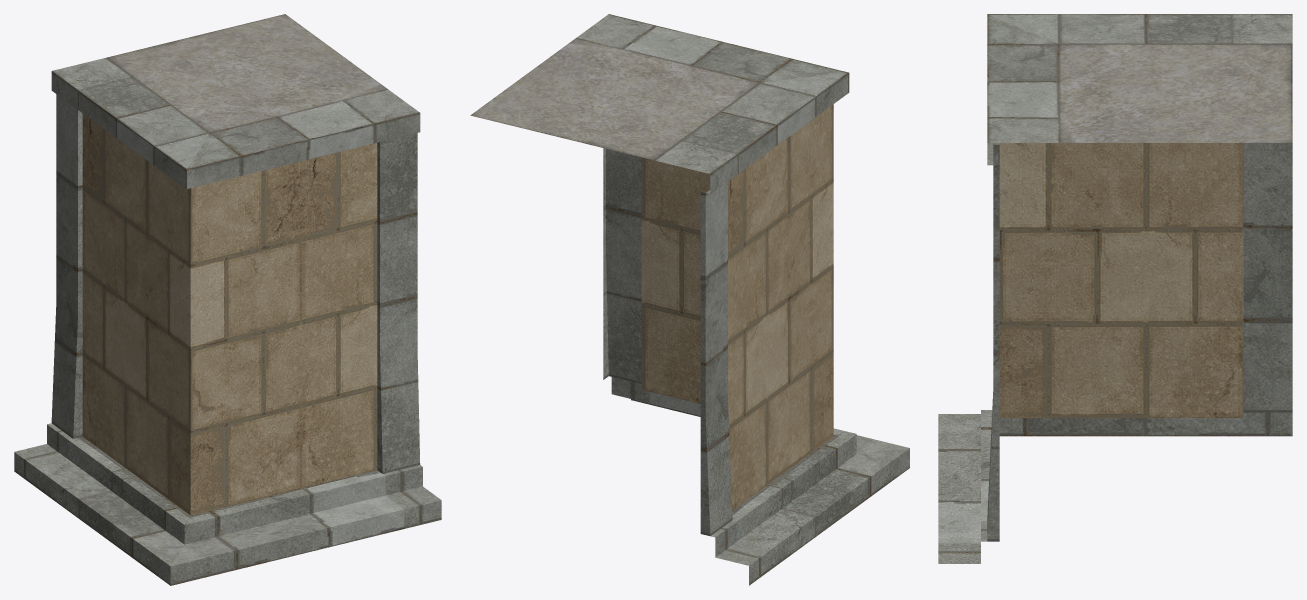
File: block_sqr_cnr_1x1.fbx
The picture shows the model from 3 angles, left to right: view 1: azimuth 30°, elevation 25°; view 2: azimuth 150°, elevation 25°; view 3: azimuth 270°, elevation 25°; orthographic projection. The views are drawn at different scales.
Visible parts, largest first — view 1: block_sqr_cnr_1x1; view 2: block_sqr_cnr_1x1; view 3: block_sqr_cnr_1x1.
Part boxes in pixels (x1,y1,x2,y2): block_sqr_cnr_1x1: (14,14,441,585); block_sqr_cnr_1x1: (470,14,909,585); block_sqr_cnr_1x1: (938,14,1292,563).
Size of the model in its own units: 145 by 200 by 145.
